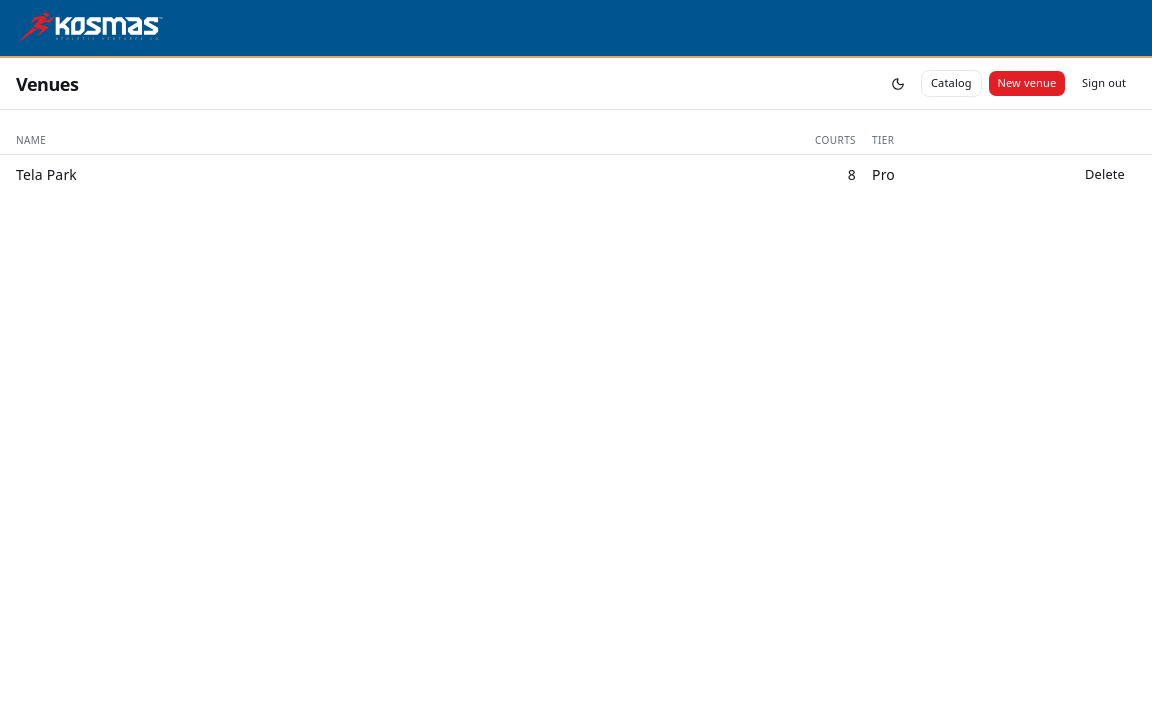
Test: Venues delete › opens the confirmation without navigating to the venue it is about to delete
expect the text "Tela Park" is shown: met, box x1=0 y1=154 x2=752 y2=194
Click the button with aria-label "Delete Tela Park": (1105, 174) x1=1074 y1=160 x2=1136 y2=188
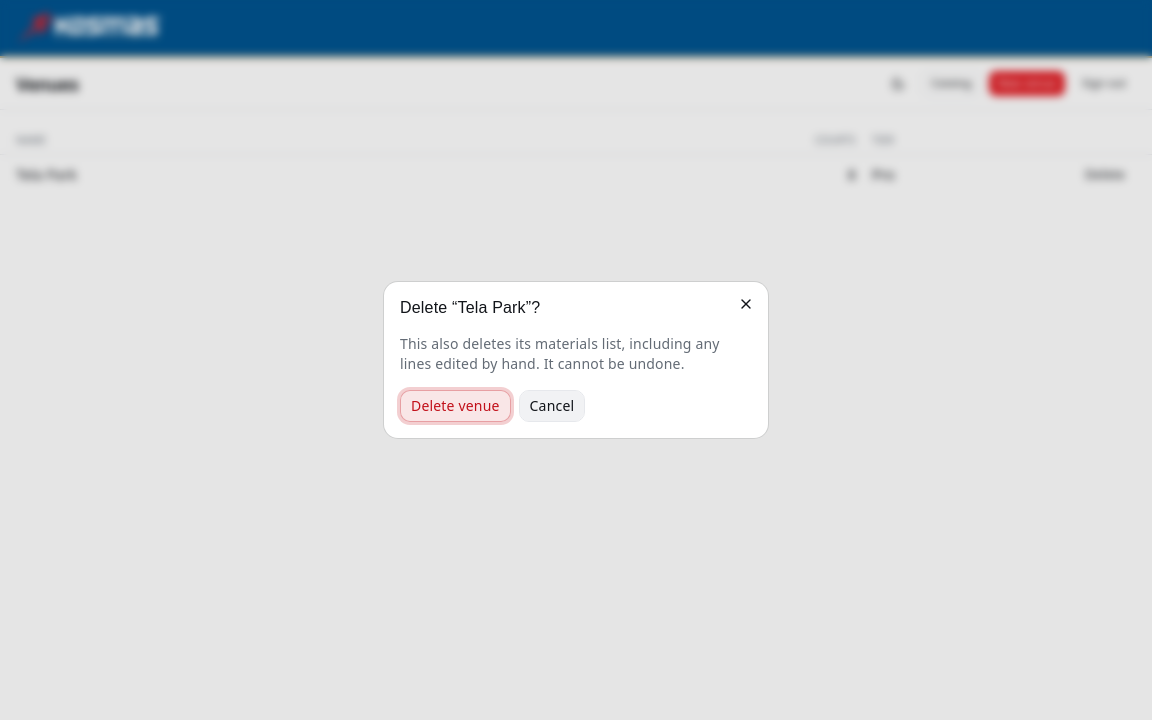
expect the text "cannot be undone" is shown: met, box x1=400 y1=334 x2=720 y2=373
